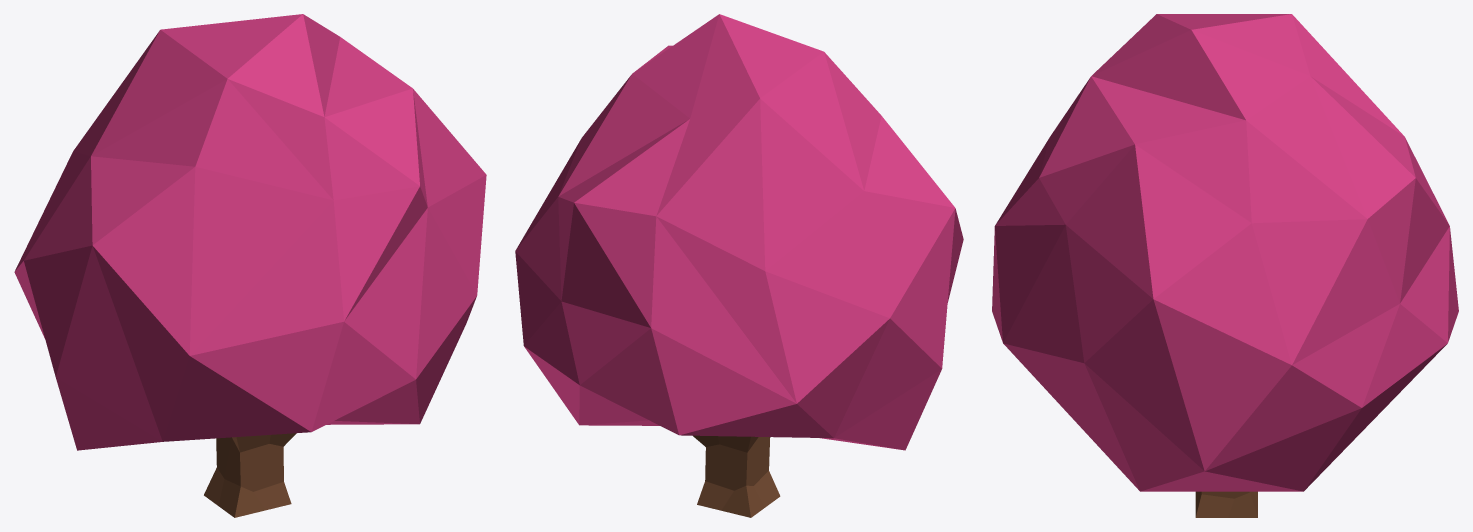
The model's file is Tree_15_Pink.fbx.
3 renders of one model, left to right at view 1: azimuth 30°, elevation 25°; view 2: azimuth 150°, elevation 25°; view 3: azimuth 270°, elevation 25°, orthographic. The views are drawn at different scales.
Parts seen in each view (by area): view 1: Tree_15_Pink_Part_1, Tree_15_Pink_Part_2; view 2: Tree_15_Pink_Part_1, Tree_15_Pink_Part_2; view 3: Tree_15_Pink_Part_1, Tree_15_Pink_Part_2.
Boxes of the visible parts, left/top/right/bottom form: Tree_15_Pink_Part_1: left=14, top=14, right=486, bottom=450; Tree_15_Pink_Part_2: left=204, top=433, right=296, bottom=517; Tree_15_Pink_Part_1: left=515, top=14, right=963, bottom=450; Tree_15_Pink_Part_2: left=693, top=435, right=780, bottom=517; Tree_15_Pink_Part_1: left=992, top=14, right=1458, bottom=491; Tree_15_Pink_Part_2: left=1195, top=491, right=1257, bottom=517.
Size of the model in its own units: 691 by 786 by 675.
